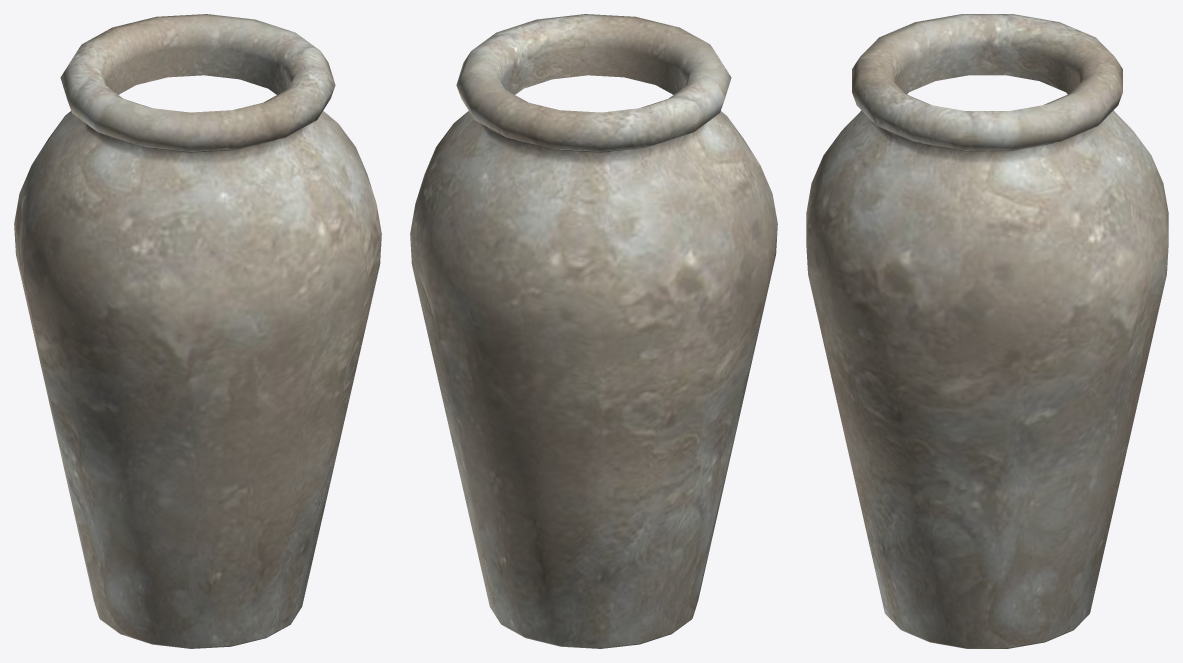
The picture shows the model from 3 angles, left to right: view 1: azimuth 30°, elevation 25°; view 2: azimuth 150°, elevation 25°; view 3: azimuth 270°, elevation 25°; orthographic projection.
Visible parts, largest first — view 1: Node; view 2: Node; view 3: Node.
Boxes of the visible parts, left/top/right/bottom form: Node: left=14, top=14, right=381, bottom=648; Node: left=410, top=14, right=777, bottom=648; Node: left=806, top=14, right=1168, bottom=648.
Size of the model in its own units: 0.26 by 0.4295 by 0.26.
Materials: 1 (1 with a texture image).
